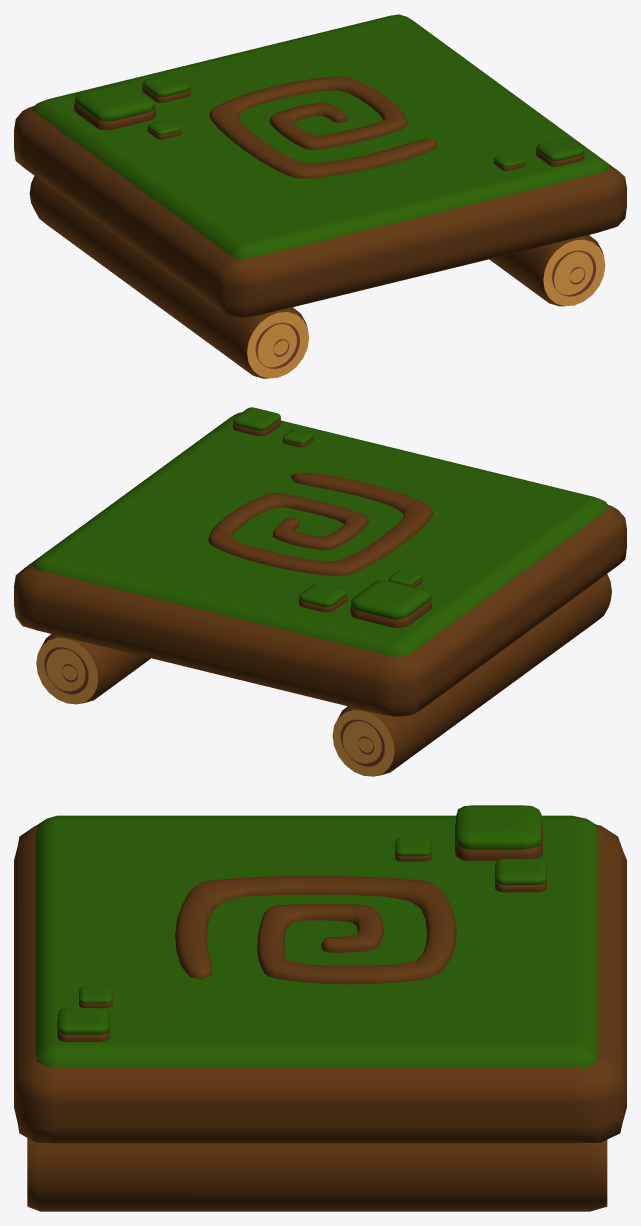
The model's file is ElevatorNew.fbx.
The picture shows the model from 3 angles, top to bottom: view 1: azimuth 30°, elevation 25°; view 2: azimuth 150°, elevation 25°; view 3: azimuth 270°, elevation 25°; orthographic projection. The views are drawn at different scales.
Parts seen in each view (by area): view 1: ElevatorNew14, ElevatorNew8, ElevatorNew11, ElevatorNew9, ElevatorNew13, ElevatorNew16, ElevatorNew17, ElevatorNew23, ElevatorNew15; view 2: ElevatorNew14, ElevatorNew8, ElevatorNew11, ElevatorNew9, ElevatorNew13, ElevatorNew16, ElevatorNew23, ElevatorNew17, ElevatorNew15; view 3: ElevatorNew14, ElevatorNew8, ElevatorNew13, ElevatorNew9, ElevatorNew16, ElevatorNew17, ElevatorNew23, ElevatorNew15, ElevatorNew20, ElevatorNew21.
Part boxes in pixels (left/top/right/bottom): ElevatorNew14: left=32, top=14, right=609, bottom=259; ElevatorNew8: left=14, top=105, right=626, bottom=318; ElevatorNew11: left=29, top=176, right=308, bottom=378; ElevatorNew9: left=209, top=76, right=436, bottom=178; ElevatorNew13: left=489, top=235, right=605, bottom=306; ElevatorNew16: left=75, top=82, right=154, bottom=121; ElevatorNew17: left=142, top=74, right=190, bottom=97; ElevatorNew23: left=536, top=138, right=583, bottom=160; ElevatorNew15: left=74, top=102, right=155, bottom=130; ElevatorNew14: left=32, top=412, right=609, bottom=657; ElevatorNew8: left=14, top=505, right=626, bottom=716; ElevatorNew11: left=332, top=574, right=611, bottom=776; ElevatorNew9: left=208, top=472, right=432, bottom=575; ElevatorNew13: left=36, top=634, right=150, bottom=704; ElevatorNew16: left=351, top=580, right=431, bottom=619; ElevatorNew23: left=233, top=407, right=280, bottom=431; ElevatorNew17: left=299, top=583, right=346, bottom=607; ElevatorNew15: left=350, top=599, right=431, bottom=627; ElevatorNew14: left=36, top=815, right=598, bottom=1068; ElevatorNew8: left=14, top=824, right=626, bottom=1143; ElevatorNew13: left=27, top=1138, right=607, bottom=1211; ElevatorNew9: left=175, top=875, right=456, bottom=984; ElevatorNew16: left=456, top=805, right=541, bottom=849; ElevatorNew17: left=495, top=858, right=546, bottom=884; ElevatorNew23: left=58, top=1008, right=108, bottom=1034; ElevatorNew15: left=455, top=823, right=542, bottom=860; ElevatorNew20: left=395, top=837, right=431, bottom=856; ElevatorNew21: left=79, top=986, right=112, bottom=1003.
Size of the model in its own units: 2.16 by 0.7795 by 2.13.
